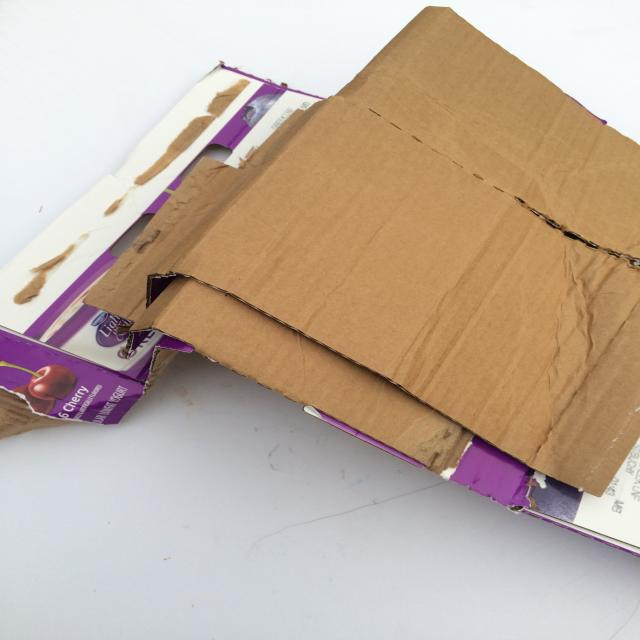Cardboard: (0, 2, 640, 562)
